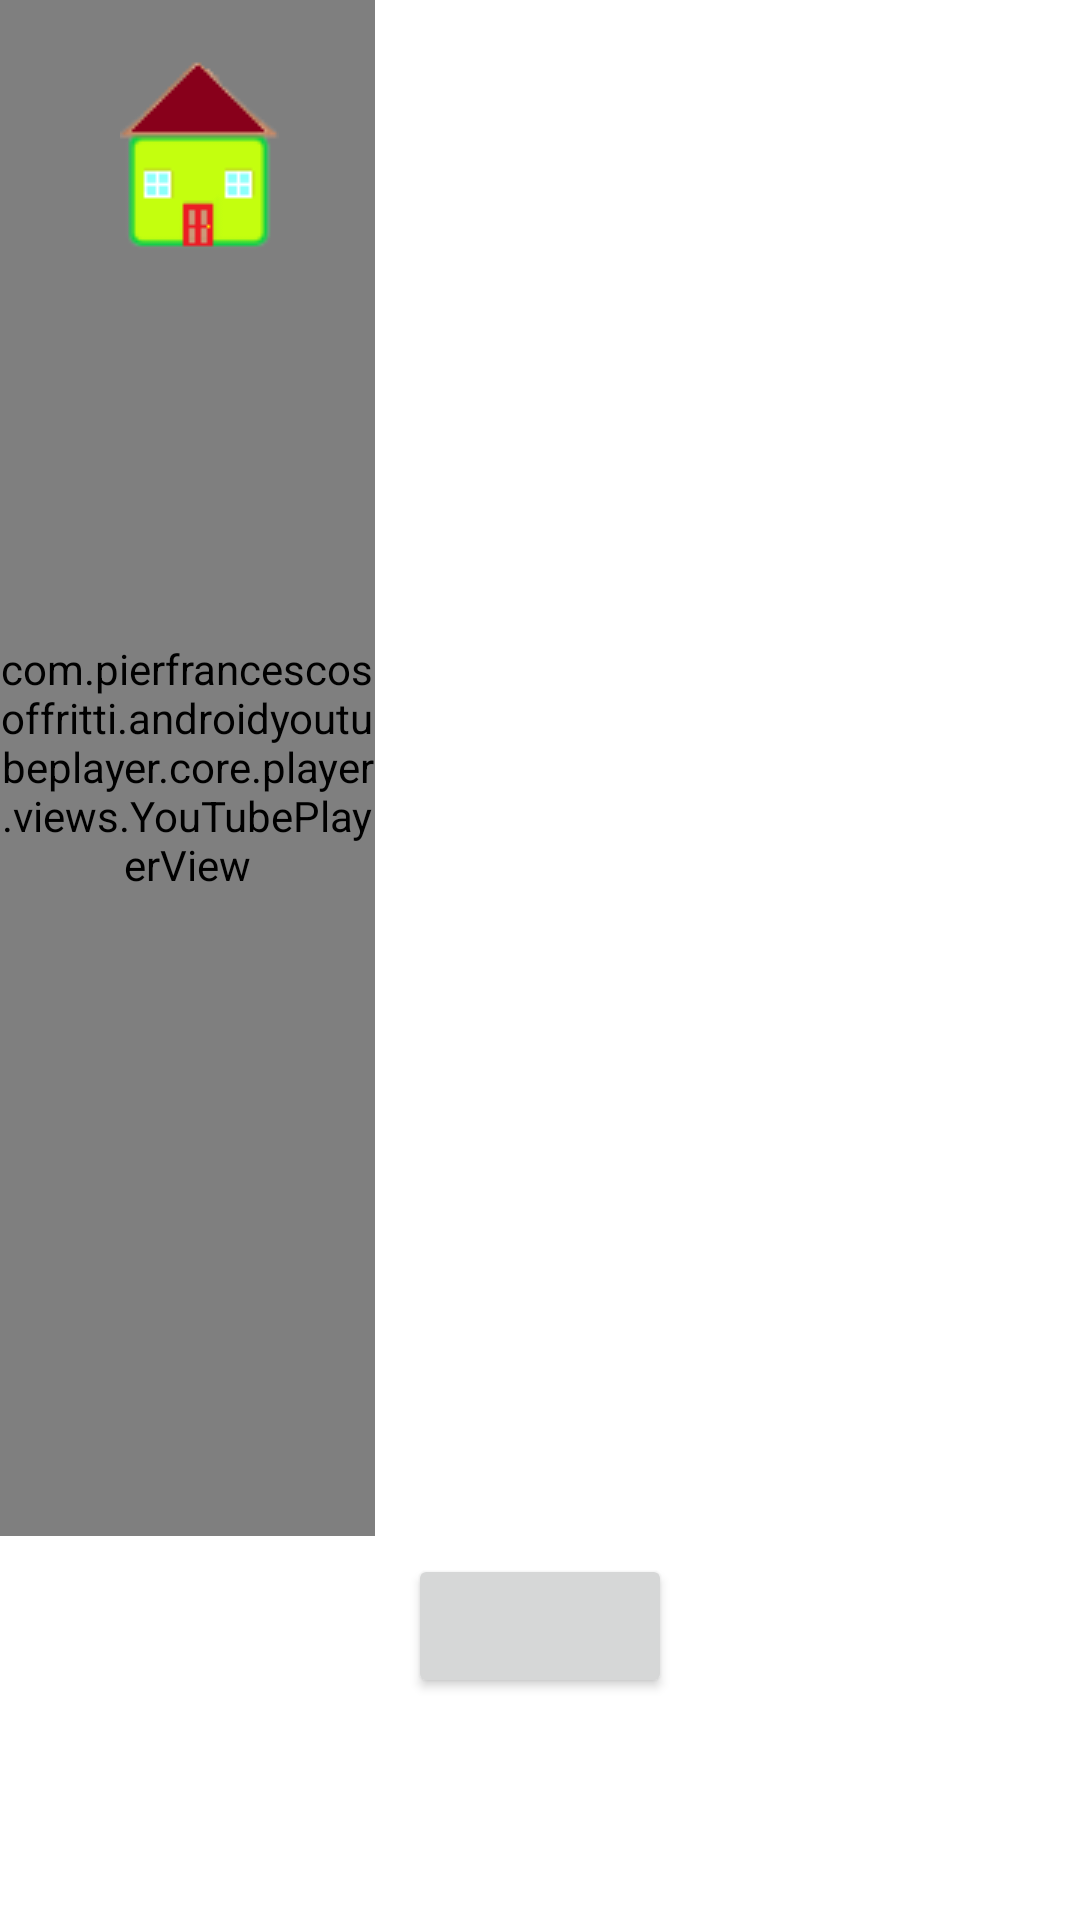

Where to tap for icons on this 1080w x 1920h app screen, as point (x, y):
home: point (198, 154)
